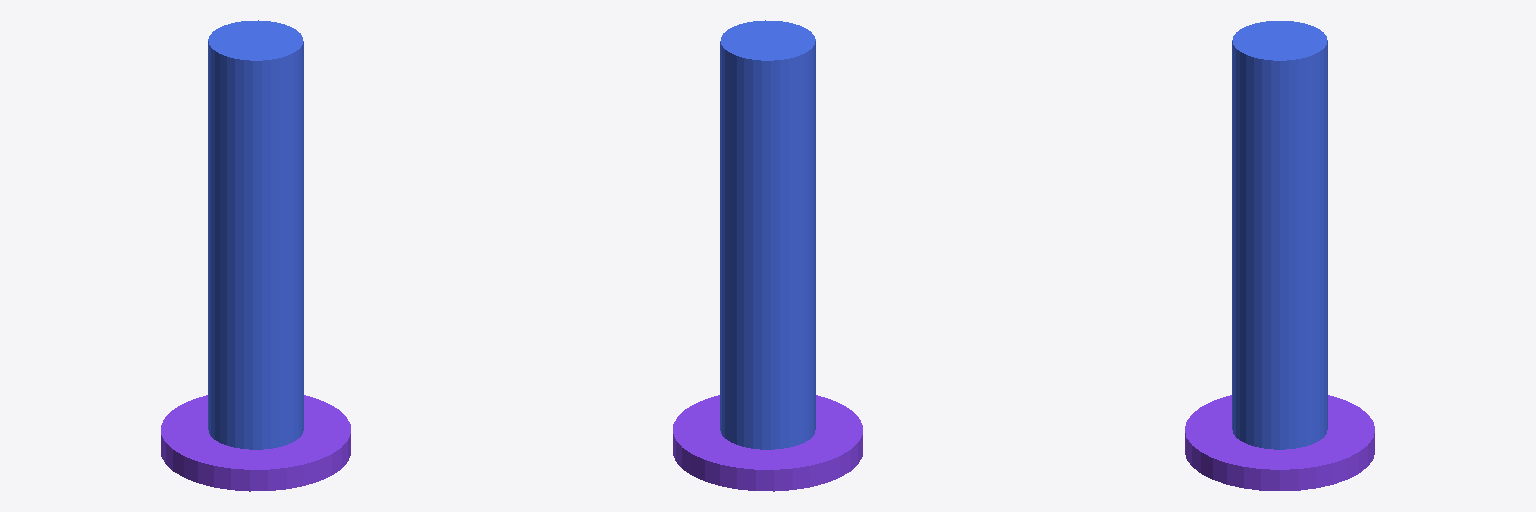
The robot description file, URDF, robot "elir_test":
<?xml version="1.0" ?>
<!-- =================================================================================== -->
<!-- |    This document was autogenerated by xacro from victory.urdf.xacro             | -->
<!-- |    EDITING THIS FILE BY HAND IS NOT RECOMMENDED                                 | -->
<!-- =================================================================================== -->
<robot name="elir_test" xmlns:xacro="http://www.ros.org/wiki/xacro">
  <material name="purple">
    <color rgba="0.6 0.352941176471 1.0 1.0"/>
  </material>
  <material name="blue">
    <color rgba="0.352941176471 0.505882352941 1.0 1.0"/>
  </material>
  <material name="light_blue">
    <color rgba="0.352941176471 1.0 0.850980392157 1.0"/>
  </material>
  <!-- <link name="base_link">
  </link>

  <joint name="world_base_joint" type="fixed">
    <origin xyz="0.0 0.0 0.0" rpy="0.0 0.0 0.0"/>
    <parent link="base_link"/>
    <child link="victory_link0"/>
  </joint> -->
  <link name="victory_link0">
    <!-- This visual represents the base body-->
    <visual>
      <geometry>
        <cylinder length="0.05" radius="0.2"/>
      </geometry>
      <material name="purple"/>
    </visual>
    <collision>
      <geometry>
        <cylinder length="0.02" radius="0.2"/>
      </geometry>
      <origin rpy="0 0 0" xyz="0.0 0.0 0"/>
    </collision>
  </link>
  <joint name="joint_0" type="revolute">
    <parent link="victory_link0"/>
    <child link="victory_link1"/>
    <origin rpy="0 0 0" xyz="0 0 0.025"/>
    <limit effort="1000.0" lower="-3.14" upper="3.14" velocity="0.5"/>
    <axis xyz="0 0 1"/>
  </joint>
  <link name="victory_link1">
    <!-- This visual represents the base body-->
    <visual>
      <geometry>
        <cylinder length="0.3" radius="0.1"/>
      </geometry>
      <origin rpy="0 0 0" xyz="0.0 0.0 0.15"/>
      <material name="blue"/>
    </visual>
    <collision>
      <geometry>
        <cylinder length="0.2" radius="0.1"/>
      </geometry>
      <origin rpy="0 0 0" xyz="0.0 0.0 0.1"/>
    </collision>
  </link>
  <joint name="joint_1" type="revolute">
    <parent link="victory_link1"/>
    <child link="victory_link2"/>
    <origin rpy="0 0 0" xyz="0 0 0.3"/>
    <limit effort="1000.0" lower="-3.14" upper="3.14" velocity="0.5"/>
    <axis xyz="0 1 0"/>
  </joint>
  <link name="victory_link2">
    <!-- This visual represents the base body-->
    <visual>
      <geometry>
        <cylinder length="0.3" radius="0.1"/>
      </geometry>
      <origin rpy="0 0 0" xyz="0.0 0.0 0.15"/>
      <material name="blue"/>
    </visual>
    <collision>
      <geometry>
        <cylinder length="0.2" radius="0.1"/>
      </geometry>
      <origin rpy="0 0 0" xyz="0.0 0.0 0.1"/>
    </collision>
  </link>
  <joint name="joint_2" type="revolute">
    <parent link="victory_link2"/>
    <child link="victory_link3"/>
    <origin rpy="0 0 0" xyz="0 0 0.3"/>
    <limit effort="1000.0" lower="-3.14" upper="3.14" velocity="0.5"/>
    <axis xyz="0 1 0"/>
  </joint>
  <link name="victory_link3">
    <!-- This visual represents the base body-->
    <visual>
      <geometry>
        <cylinder length="0.3" radius="0.1"/>
      </geometry>
      <origin rpy="0 0 0" xyz="0.0 0.0 0.15"/>
      <material name="blue"/>
    </visual>
    <collision>
      <geometry>
        <cylinder length="0.2" radius="0.1"/>
      </geometry>
      <origin rpy="0 0 0" xyz="0.0 0.0 0.1"/>
    </collision>
  </link>
  <!-- <joint name="joint_ref" type="fixed">
      <parent link="victory_link3"/>
      <child link="victory_ref"/>
      <origin rpy="0 0 0" xyz="0 0 ${0.3}"/>
      <axis xyz="0 0 0"/>
    </joint>
    <link name="victory_ref"/> -->
  <joint name="joint_hand" type="fixed">
    <parent link="victory_link3"/>
    <child link="victory_hand"/>
    <origin rpy="0 0 0" xyz="0.0 0.0 0.0"/>
    <axis xyz="1 0 0"/>
  </joint>
  <link name="victory_hand">
    <visual>
      <geometry>
        <mesh filename="package://davictory_description/meshes/Hand_Victory.stl" scale="0.002 0.002 0.002"/>
        <!-- <cylinder length="0.2" radius="0.01"/> -->
      </geometry>
      <material name="light_blue"/>
      <origin rpy="0 0 0" xyz="0.015 0.0 0.6"/>
    </visual>
    <!-- this collision is for the front f1 claw unit -->
    <collision>
      <geometry>
        <!-- <cylinder length="0.2" radius="0.01"/> -->
        <mesh filename="package://davictory_description/meshes/Hand_Victory.stl" scale="0.002 0.002 0.002"/>
      </geometry>
      <origin rpy="0 0 0" xyz="0.0 0.0 0.6"/>
    </collision>
  </link>
</robot>

--- What the picture shows (computed from the rendered views, not written in the file) ---
Views: 3 orthographic renders of the robot side by side, from view 1: azimuth 30°, elevation 25°; view 2: azimuth 150°, elevation 25°; view 3: azimuth 270°, elevation 25°.
Robot: elir_test — 5 links, 4 joints (3 revolute, 1 fixed); root link victory_link0; default pose: every joint at zero.
Visible links, largest first — view 1: victory_link3, victory_link2, victory_link1, victory_link0; view 2: victory_link3, victory_link2, victory_link1, victory_link0; view 3: victory_link3, victory_link2, victory_link1, victory_link0.
Boxes of the visible links, x1,y1,x2,y2 form: victory_link3: [208, 20, 303, 189]; victory_link2: [208, 170, 303, 319]; victory_link1: [208, 300, 303, 449]; victory_link0: [161, 395, 350, 491]; victory_link3: [720, 20, 815, 189]; victory_link2: [720, 170, 815, 319]; victory_link1: [720, 300, 815, 449]; victory_link0: [673, 395, 862, 491]; victory_link3: [1232, 21, 1327, 189]; victory_link2: [1232, 171, 1327, 319]; victory_link1: [1232, 301, 1327, 449]; victory_link0: [1185, 395, 1374, 490].
Size in the robot's own frame: 0.4 by 0.4 by 0.95 metres.
Meshes: 1 distinct files referenced, 0 mesh visuals loaded (none loaded); not drawn: 1 (reference not matched to a file when rendering).
